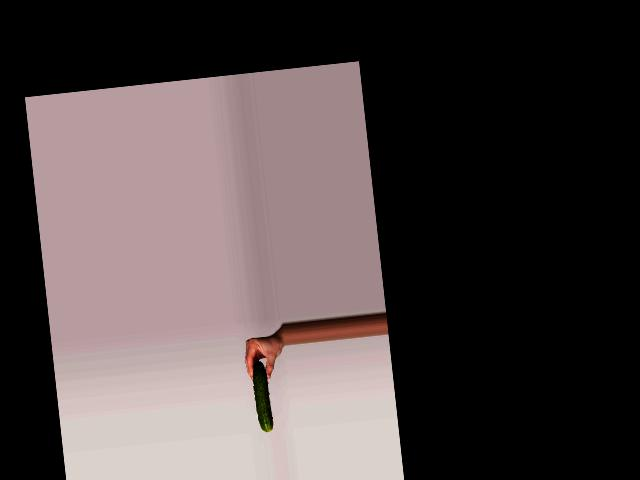cucumber: (251, 360, 272, 432)
